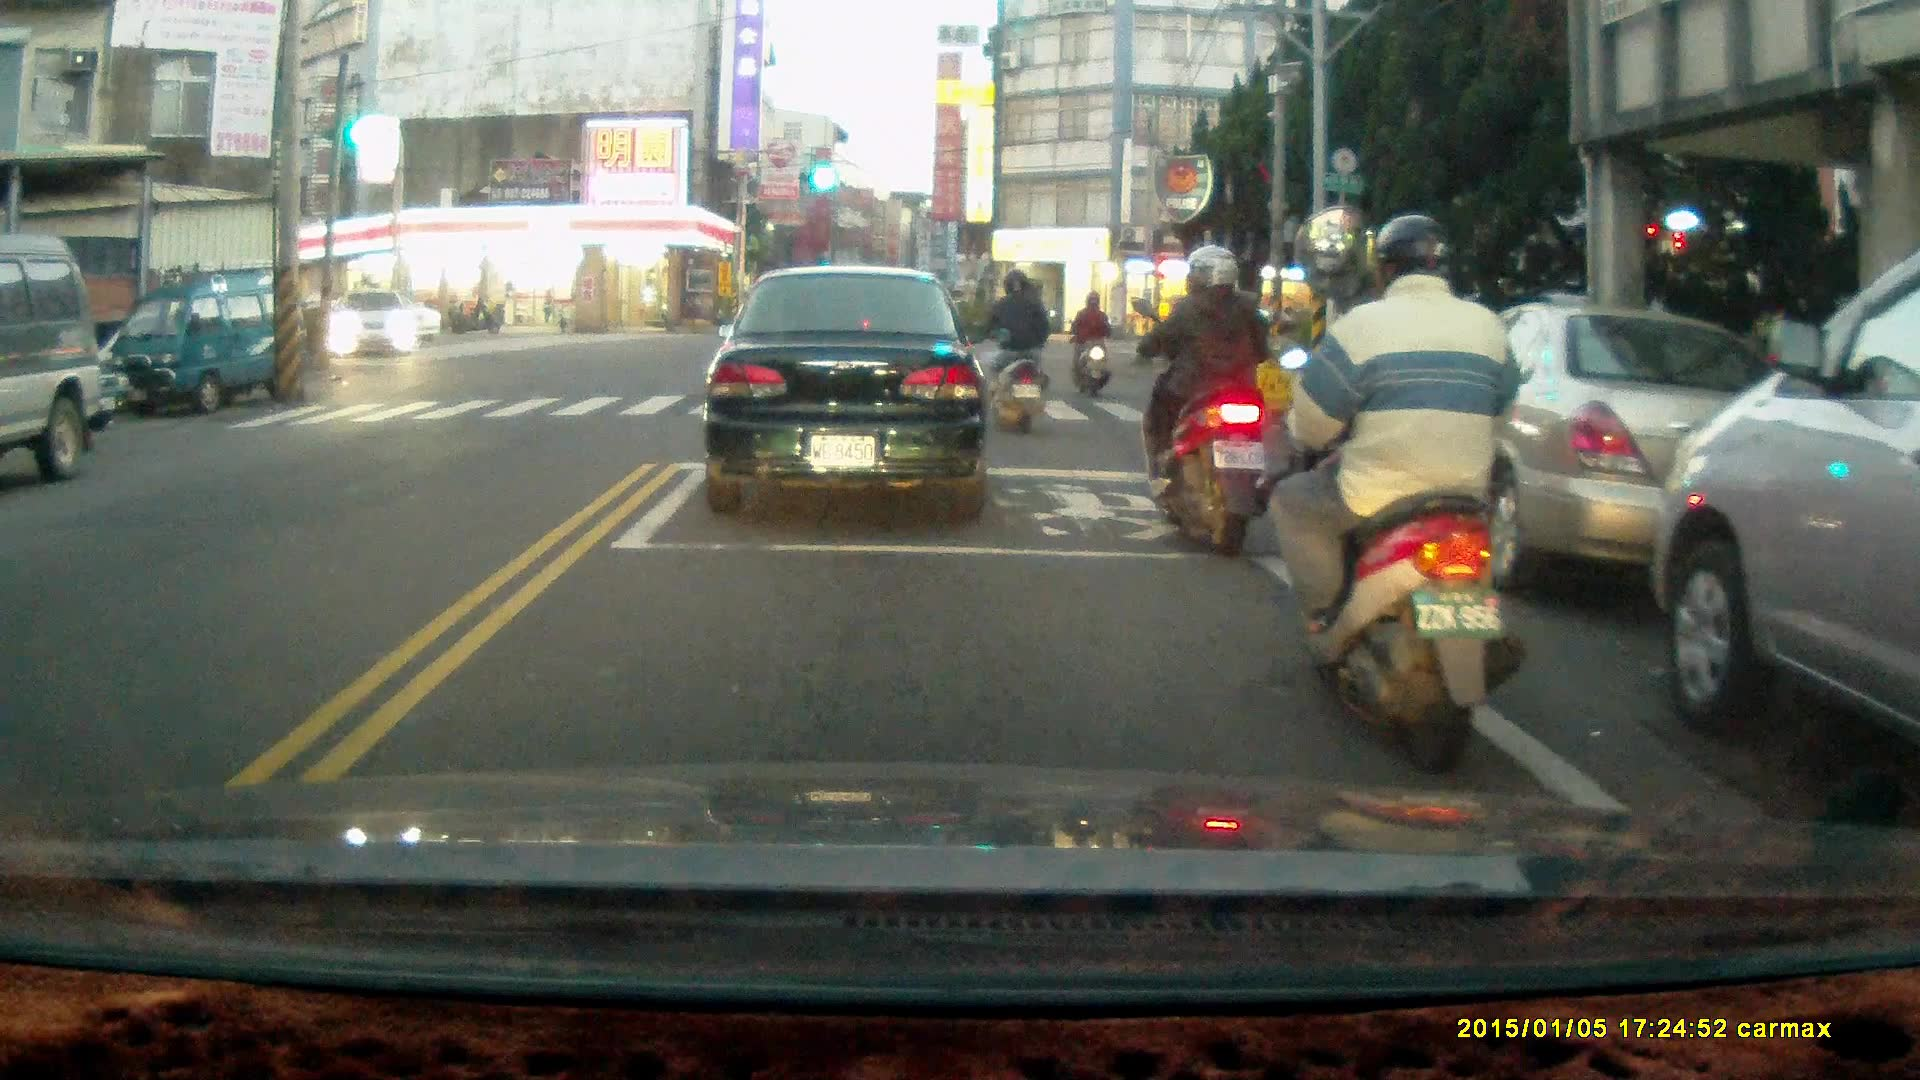rider: (1269, 215, 1529, 773), (1131, 244, 1288, 565), (981, 269, 1044, 436), (1072, 288, 1113, 400)
vehicle: (1647, 247, 1920, 747), (1403, 306, 1823, 604), (699, 263, 990, 523), (106, 263, 289, 415), (1, 234, 112, 485), (326, 290, 419, 362)
